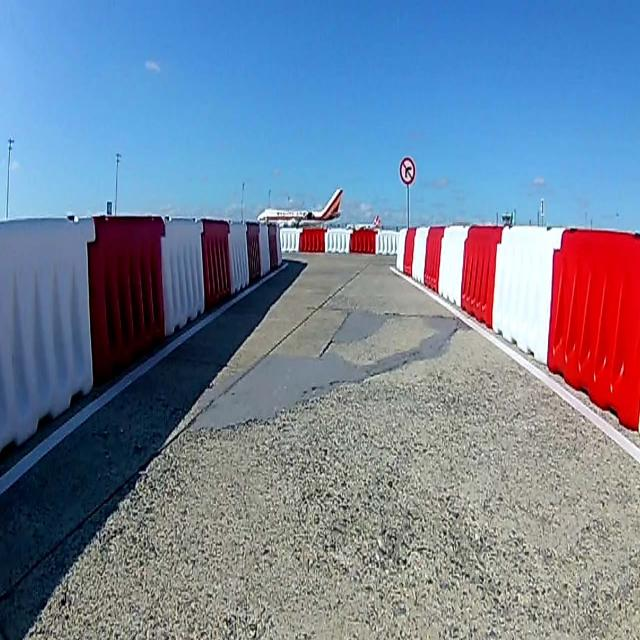sagadonulmez: (399, 155, 415, 185)
